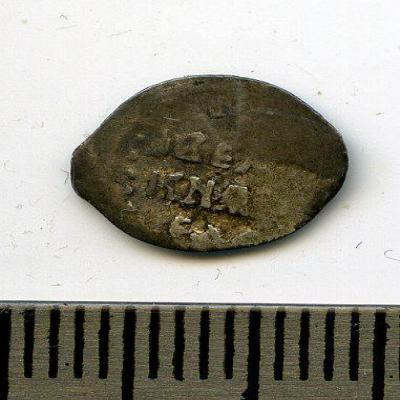numismatics: (69, 74, 350, 254)
